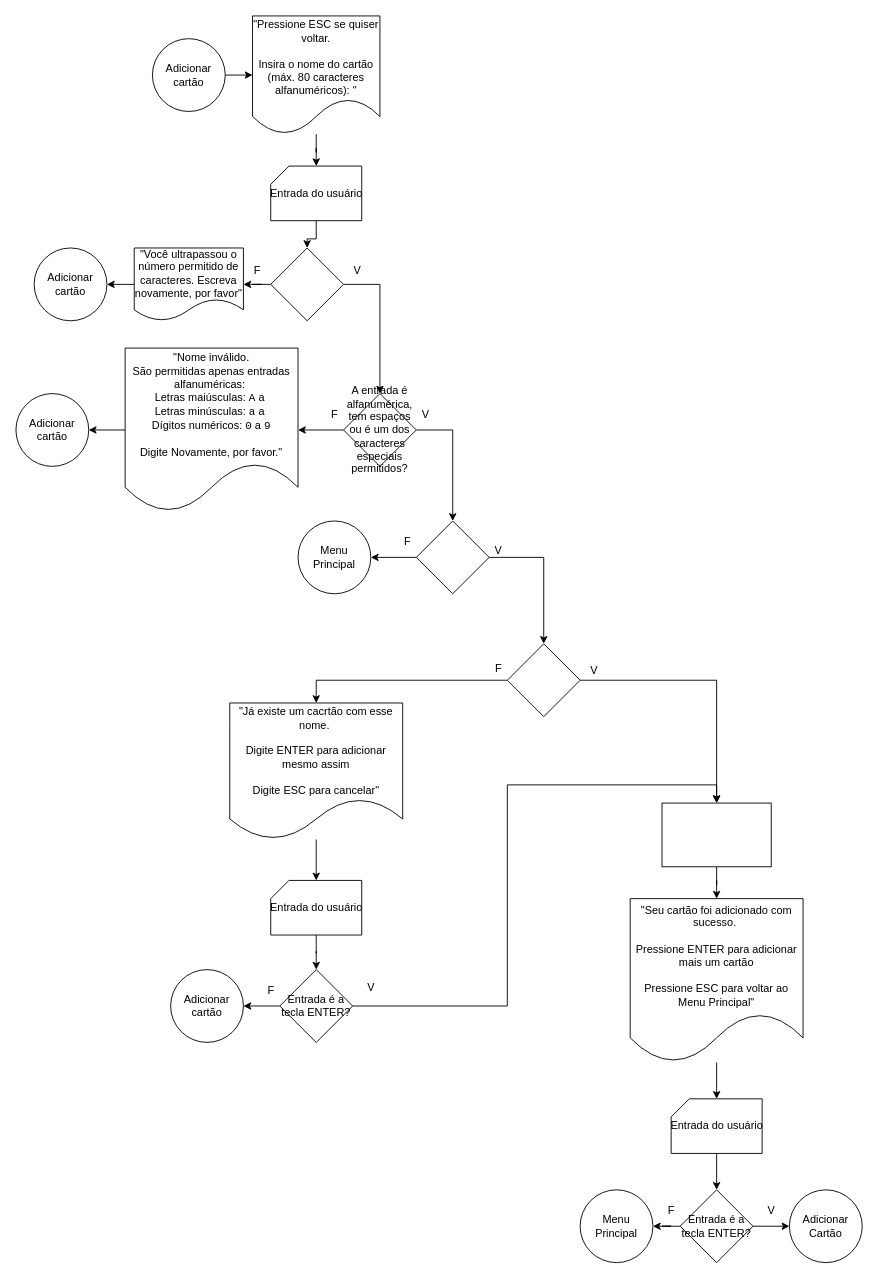
This 878x1279 diagram has some shape labels left out. The shapes that lost their labels are listed below. From the top down, each one's box as (x1, y1, x2, y2) in pixels, then its label:
(270, 247, 344, 321): Cartão possui quantidade de caracteres menor ou igual a 80?
(415, 520, 489, 594): "A entrada foi diferente da tecla ESC?"
(506, 643, 580, 717): A entrada é diferente de qualquer outra no banco de dados
(661, 802, 771, 867): Cartão é adicionado no banco de dados com ID, Nome e categoria A Fazer
